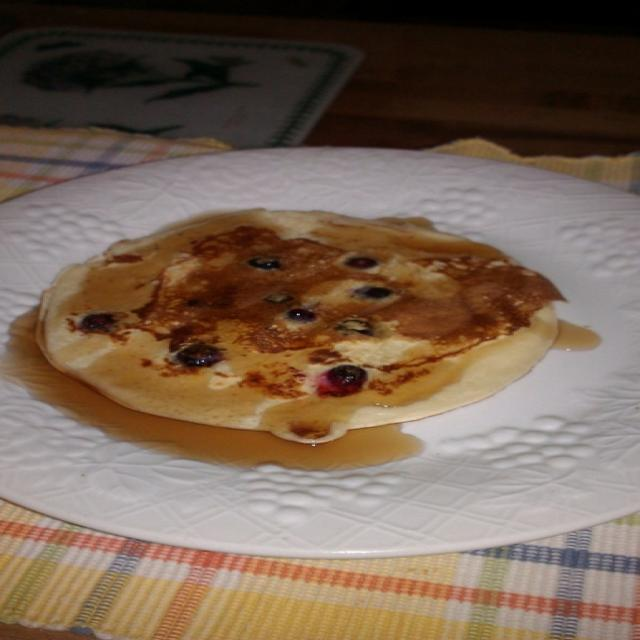蛋糕甜品: (10, 176, 598, 507)
